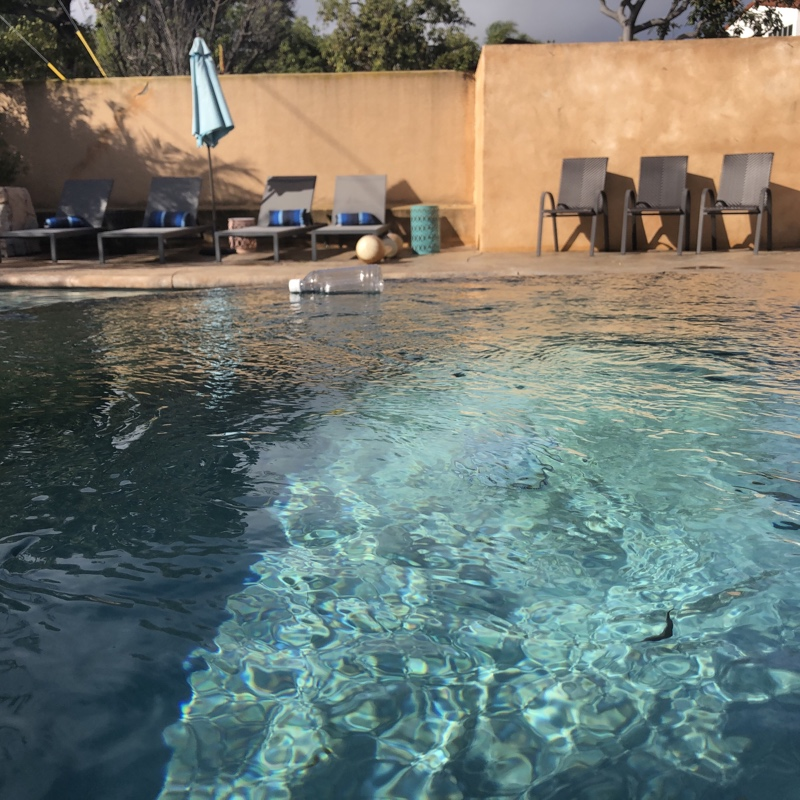Plastic Bottle: (284, 263, 385, 298)
